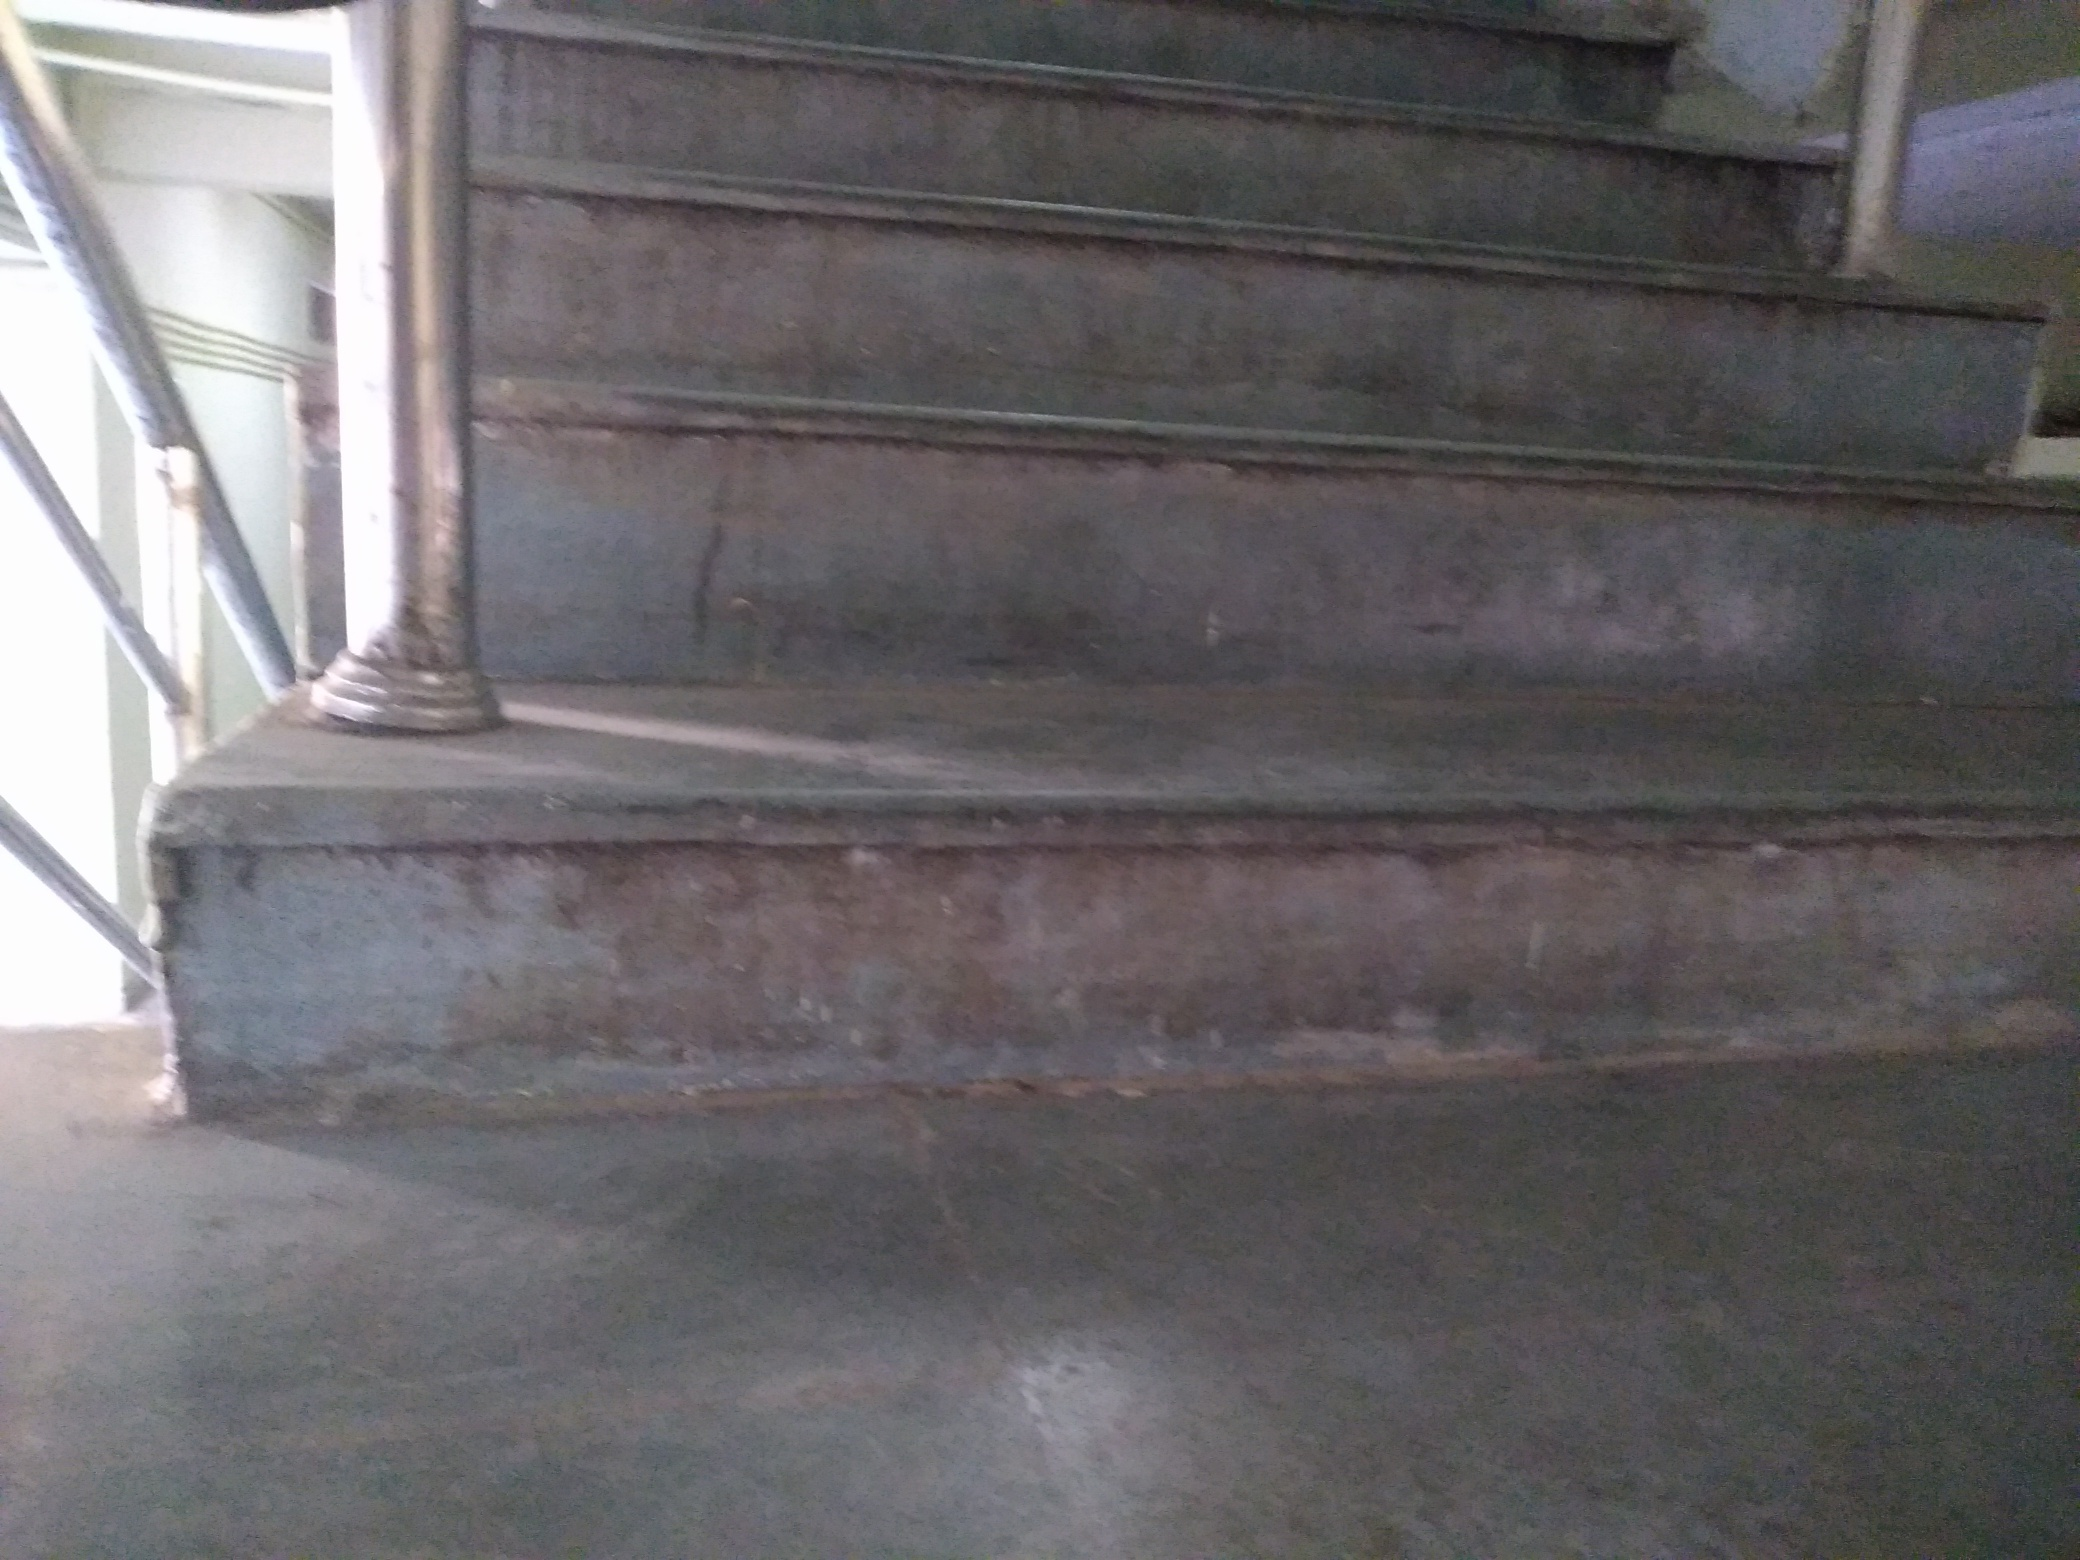stairs_up: (426, 16, 1910, 1078)
